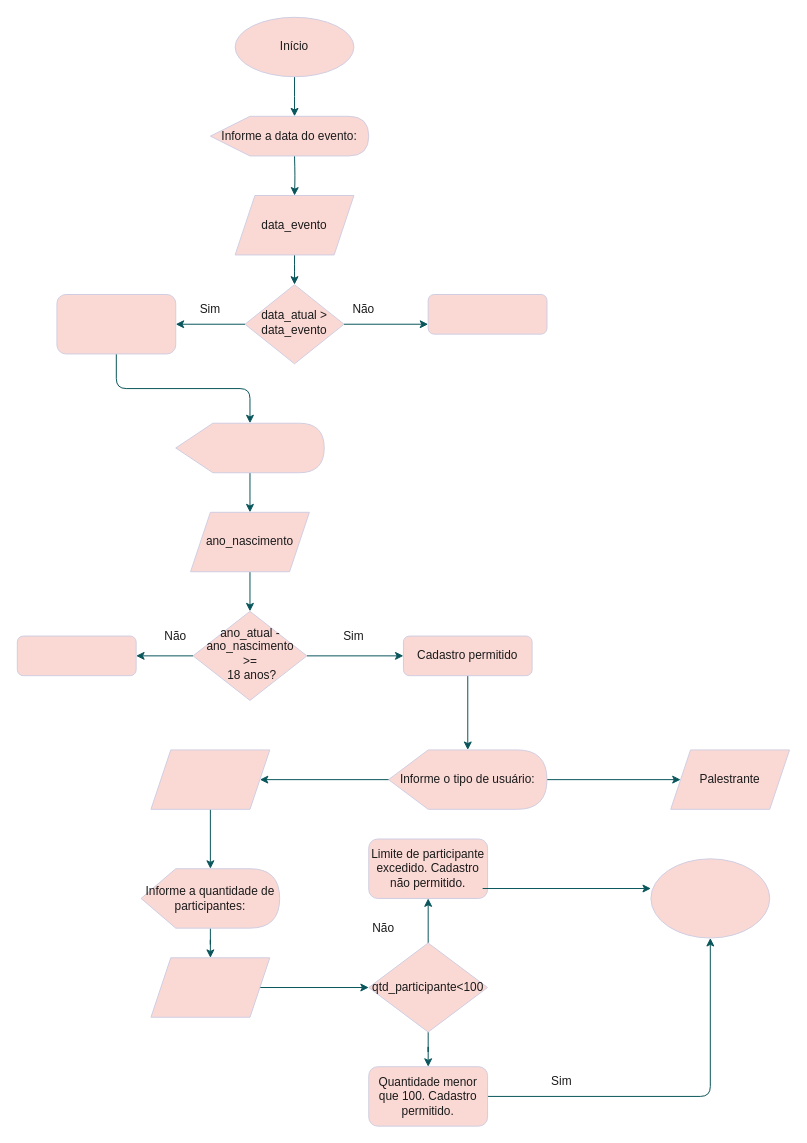
Image size: 807x1143. Some labels were removed from this diagram. The shapes that lost their labels are listed below. From the top down, each one's box as (x1, y1, x2, y2) in pixels, then its label:
(56, 294, 176, 354): Evento Permitido
(427, 294, 547, 334): Data inválida, cadastro não permitido
(175, 422, 324, 473): Informe o ano de nascimento:
(16, 635, 136, 676): Menor de 18 anos, cadastro não permitido
(150, 749, 270, 809): Participante
(650, 858, 770, 938): Fim
(150, 957, 270, 1017): qtd_participante
